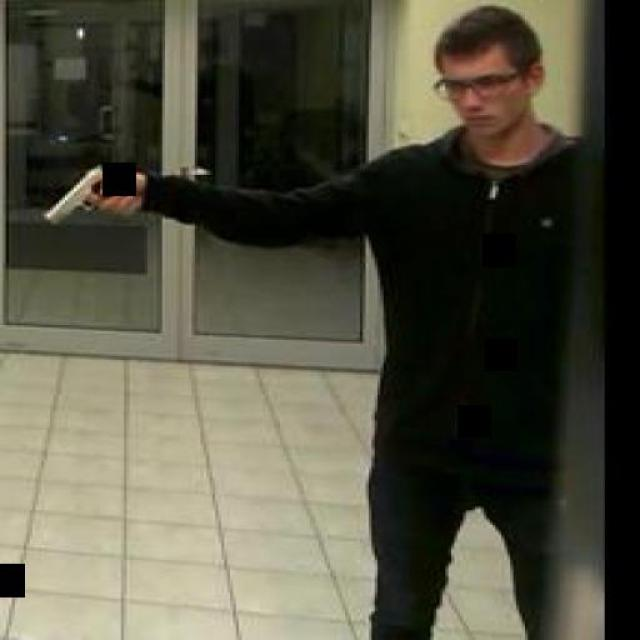gun: (39, 158, 128, 222)
